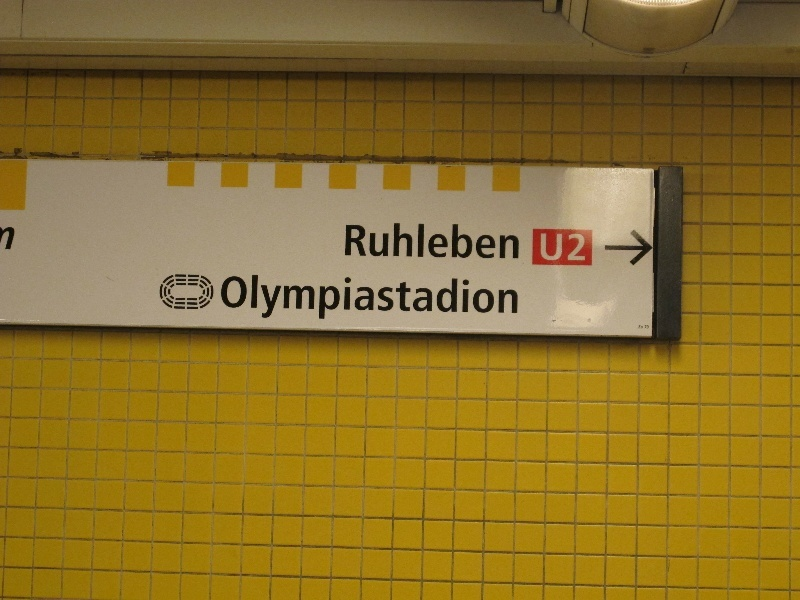text: (225, 272, 240, 322), (241, 272, 256, 322), (257, 272, 272, 322), (273, 272, 288, 322), (289, 272, 304, 322), (305, 272, 320, 322), (321, 272, 336, 322), (337, 272, 352, 322), (353, 272, 368, 322), (369, 272, 384, 322), (385, 272, 400, 322), (401, 272, 416, 322), (417, 272, 432, 322), (433, 272, 448, 322), (449, 272, 464, 322), (465, 272, 480, 322), (481, 272, 496, 322), (497, 272, 512, 322), (353, 223, 368, 260), (369, 223, 384, 260), (385, 223, 400, 260), (401, 223, 416, 260), (417, 223, 432, 260), (433, 223, 448, 260), (449, 223, 464, 260), (465, 223, 480, 260), (481, 223, 496, 260), (497, 223, 512, 260), (545, 232, 560, 262), (561, 232, 576, 262), (1, 226, 16, 252), (577, 232, 587, 262), (513, 223, 520, 260), (513, 272, 518, 322), (346, 223, 352, 260), (540, 232, 544, 262), (222, 272, 224, 322), (645, 325, 656, 329), (641, 325, 643, 329), (639, 325, 640, 329)
